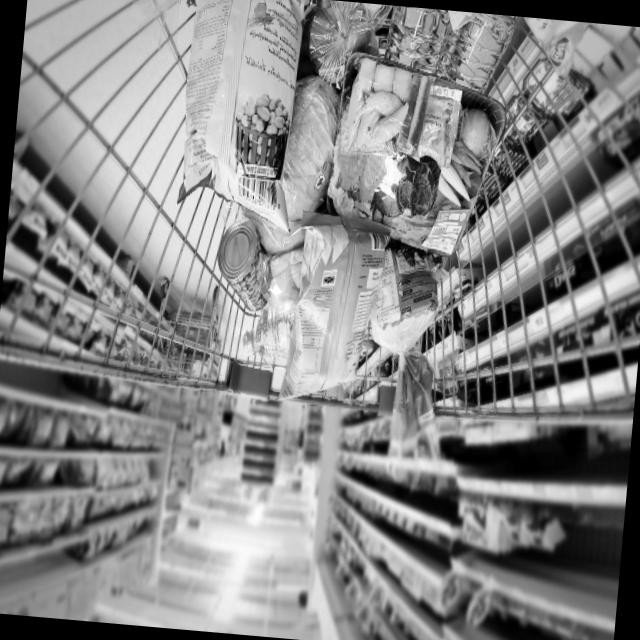banh mi: (362, 245, 461, 446)
bap cai: (270, 65, 354, 226)
dau: (237, 309, 304, 376)
tao: (302, 10, 382, 84)
